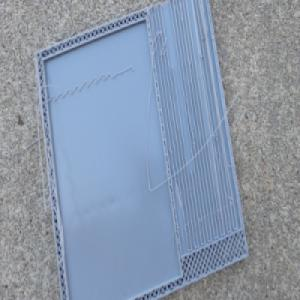PlasticPart: (36, 0, 248, 300)
